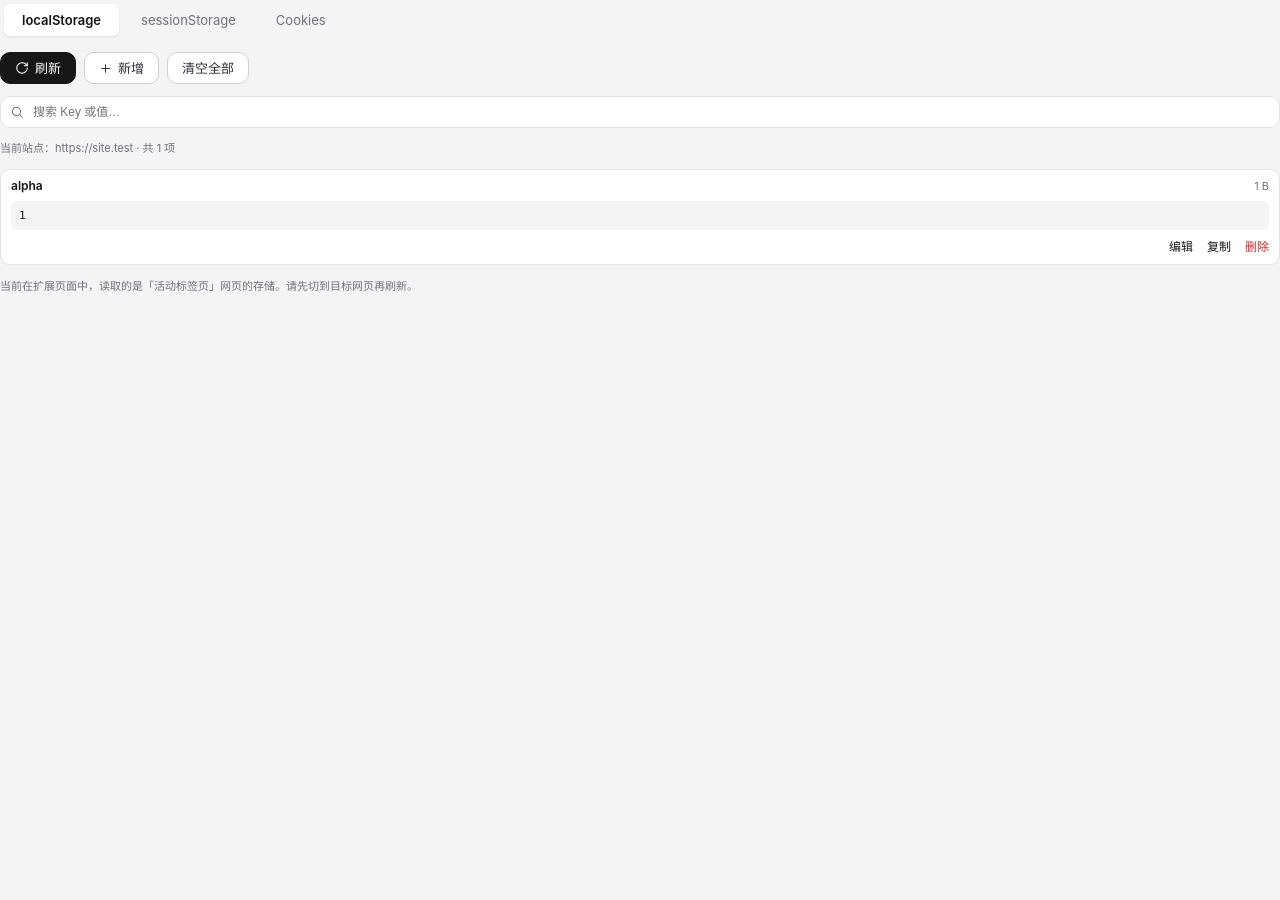
it: StorageTool 破坏性操作二次确认 › 删除失败时展示错误且不提示成功
Click the button "删除": [1257, 247] box [1245,238,1269,256]
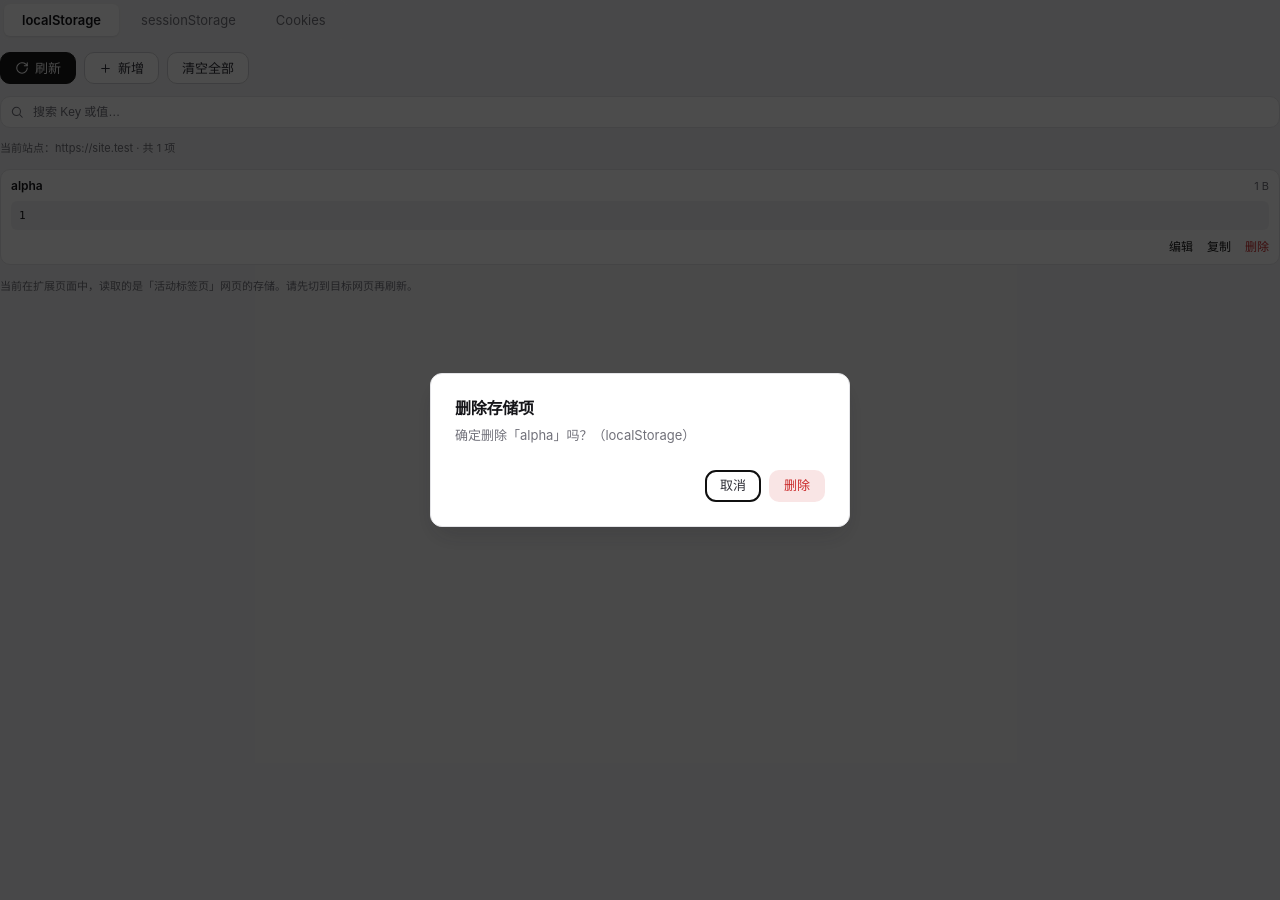
Click the button "删除": [797, 486] box [769,470,825,502]
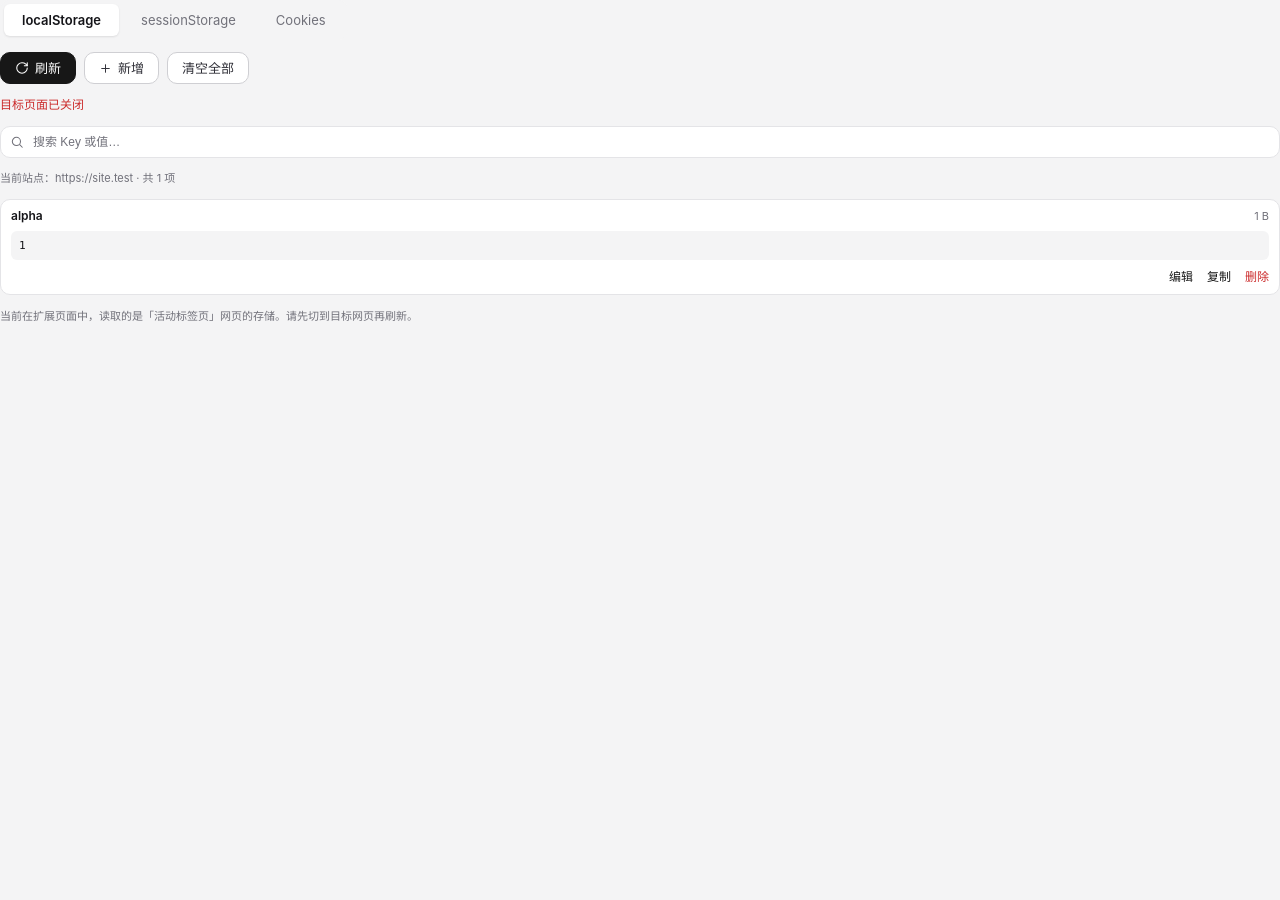
Now the message with class "tw-status--err" reads "目标页面已关闭", box [0,97,84,112]
